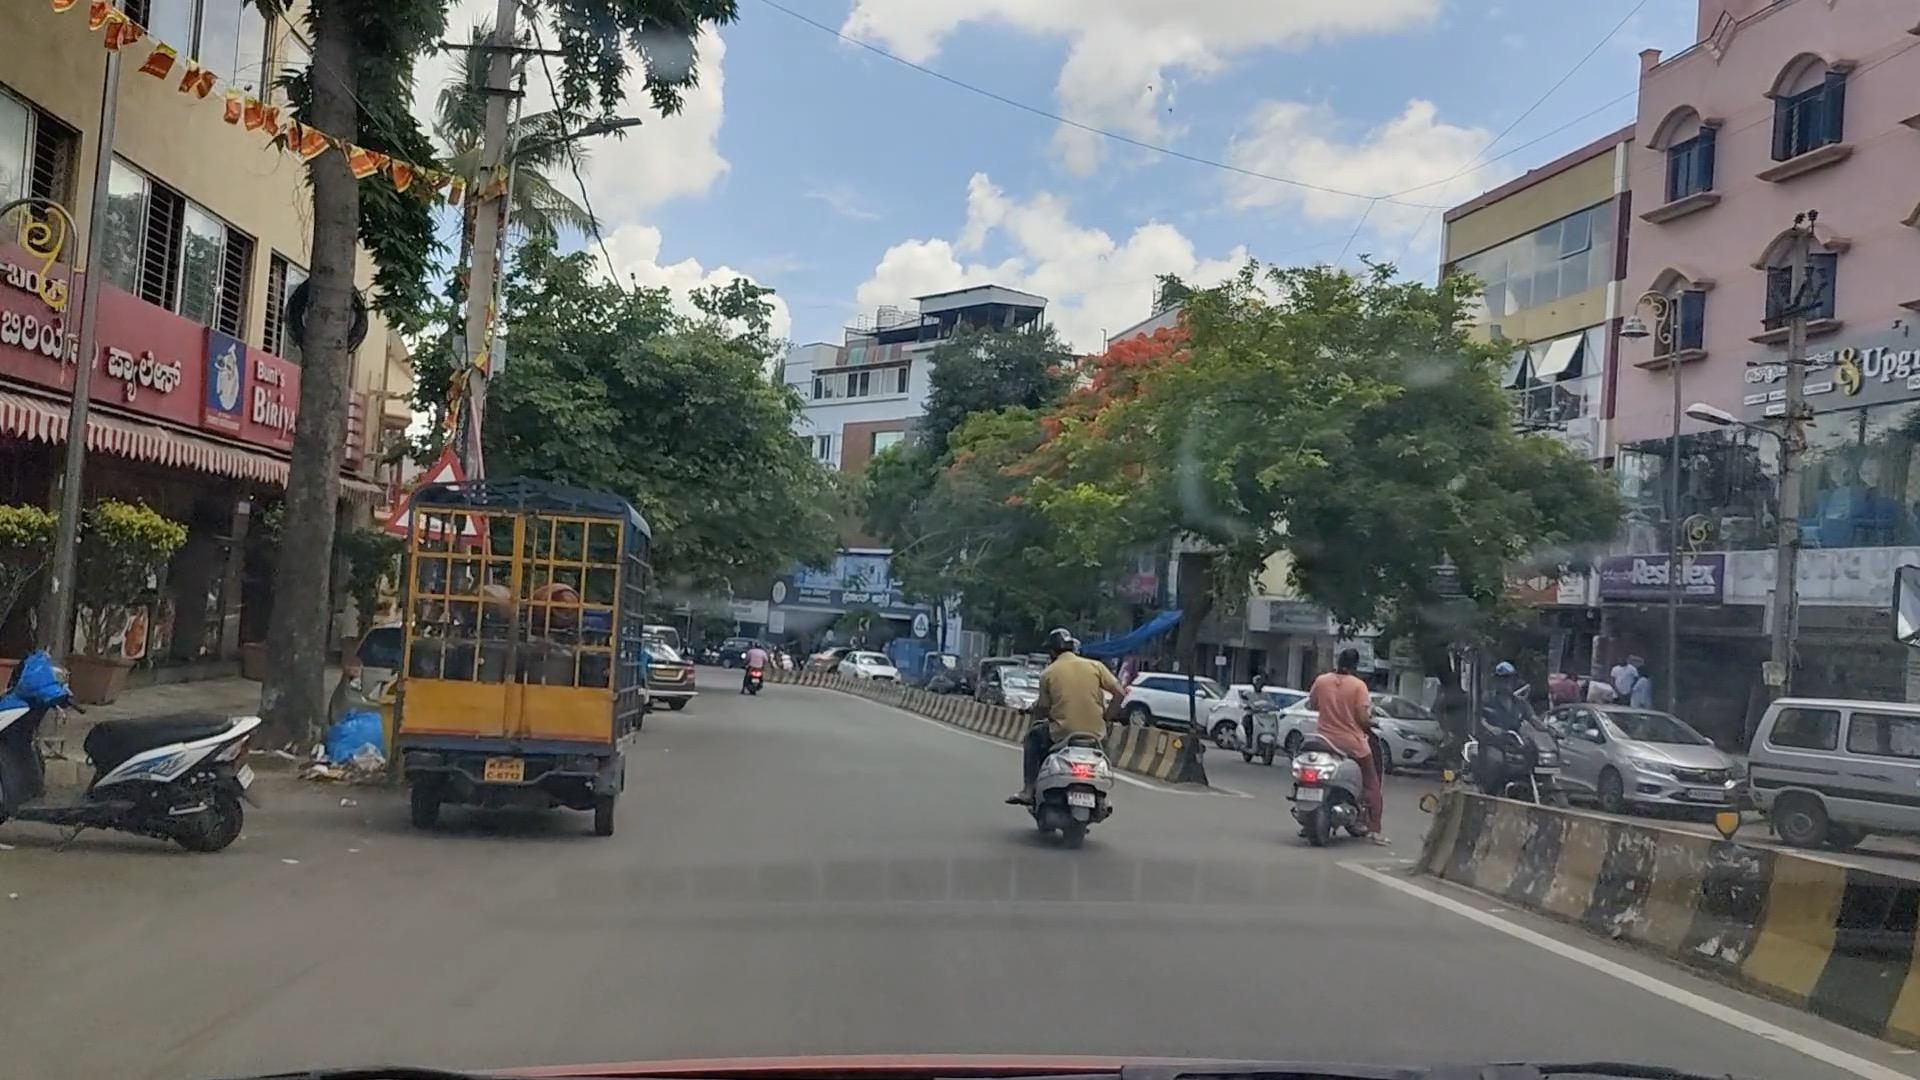LMV: (384, 524, 640, 825), (0, 703, 293, 852), (984, 650, 1124, 819), (1276, 650, 1366, 807)
